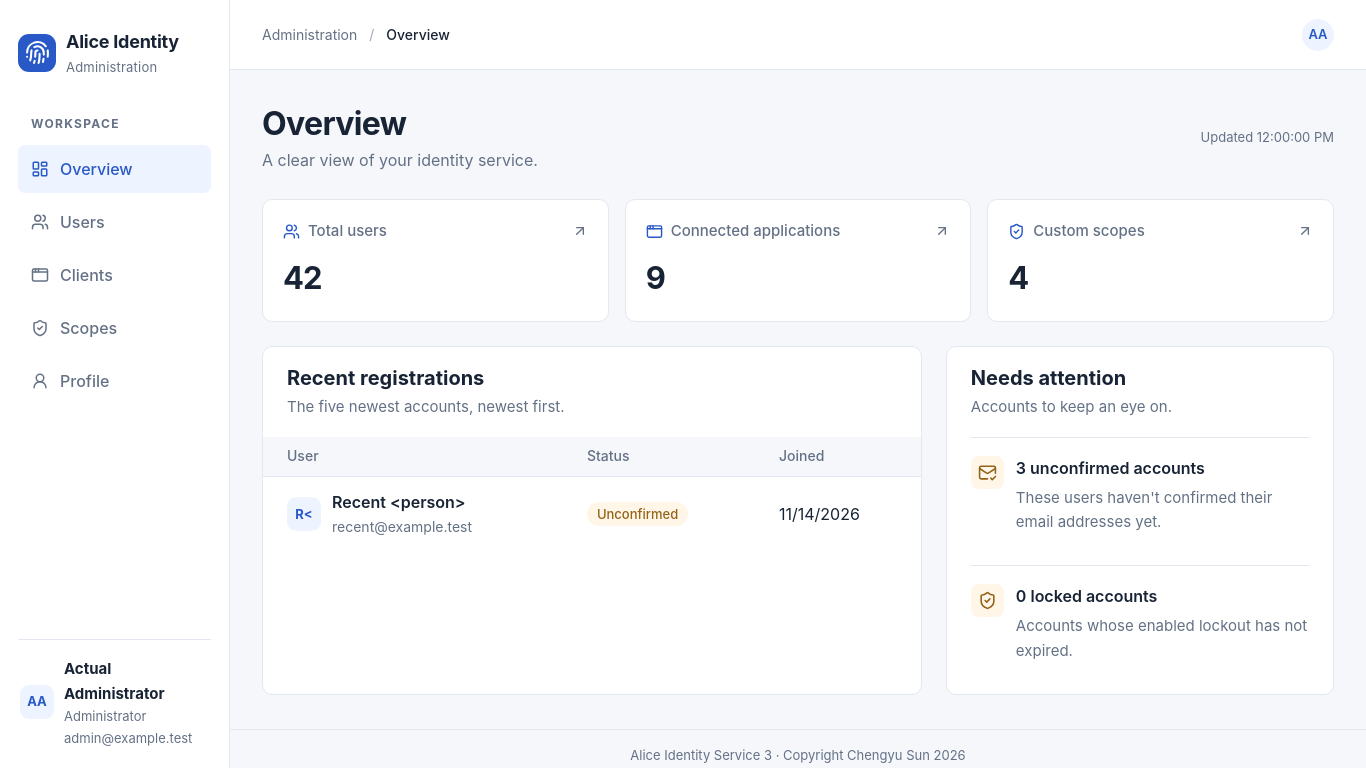
it: live administration › finishes signing out if the avatar menu is closed while the token is loading
The width and height of the screenshot is (1366, 768).
Step 1. Click the button with aria-label "User menu for Actual Administrator" → (1318, 34), box [1302,18,1334,50]
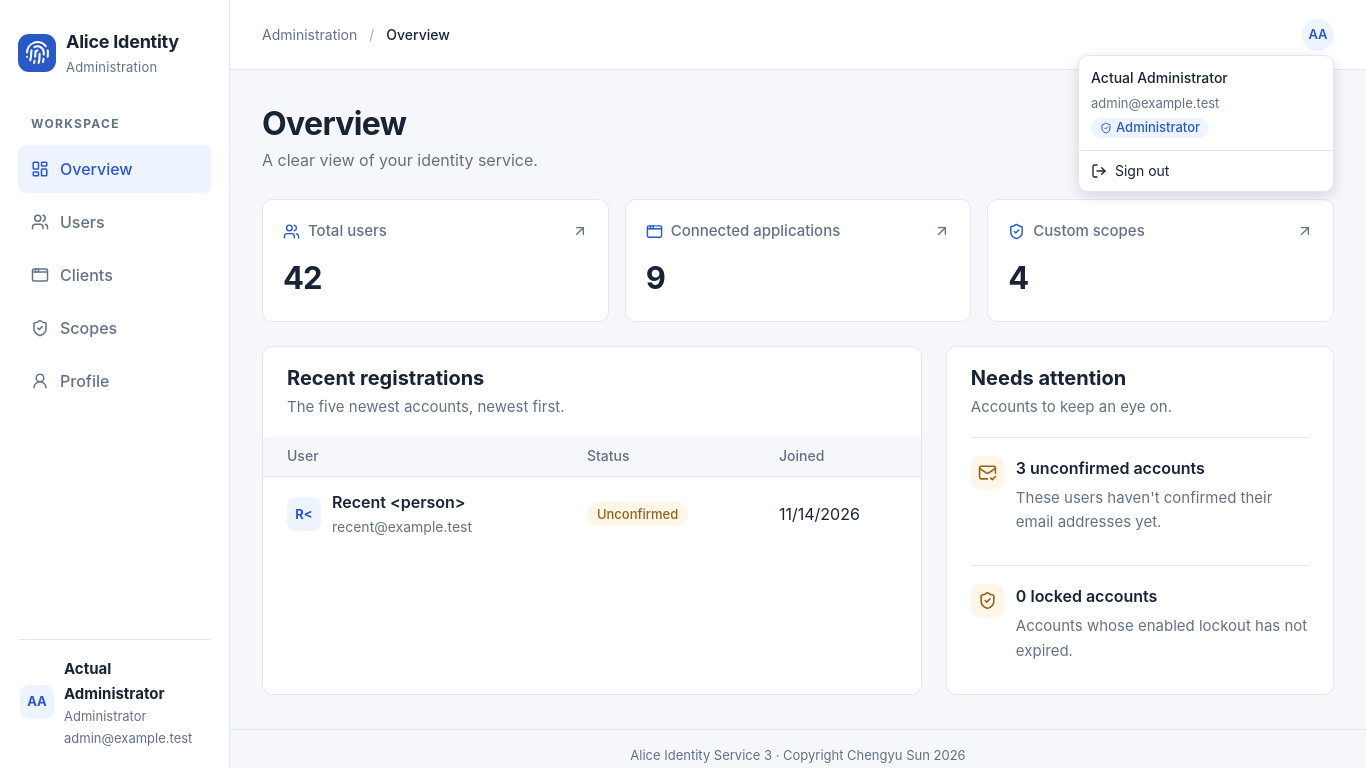
Step 2. Click the menu item "Sign out" → (1130, 170), box [1091,162,1169,179]
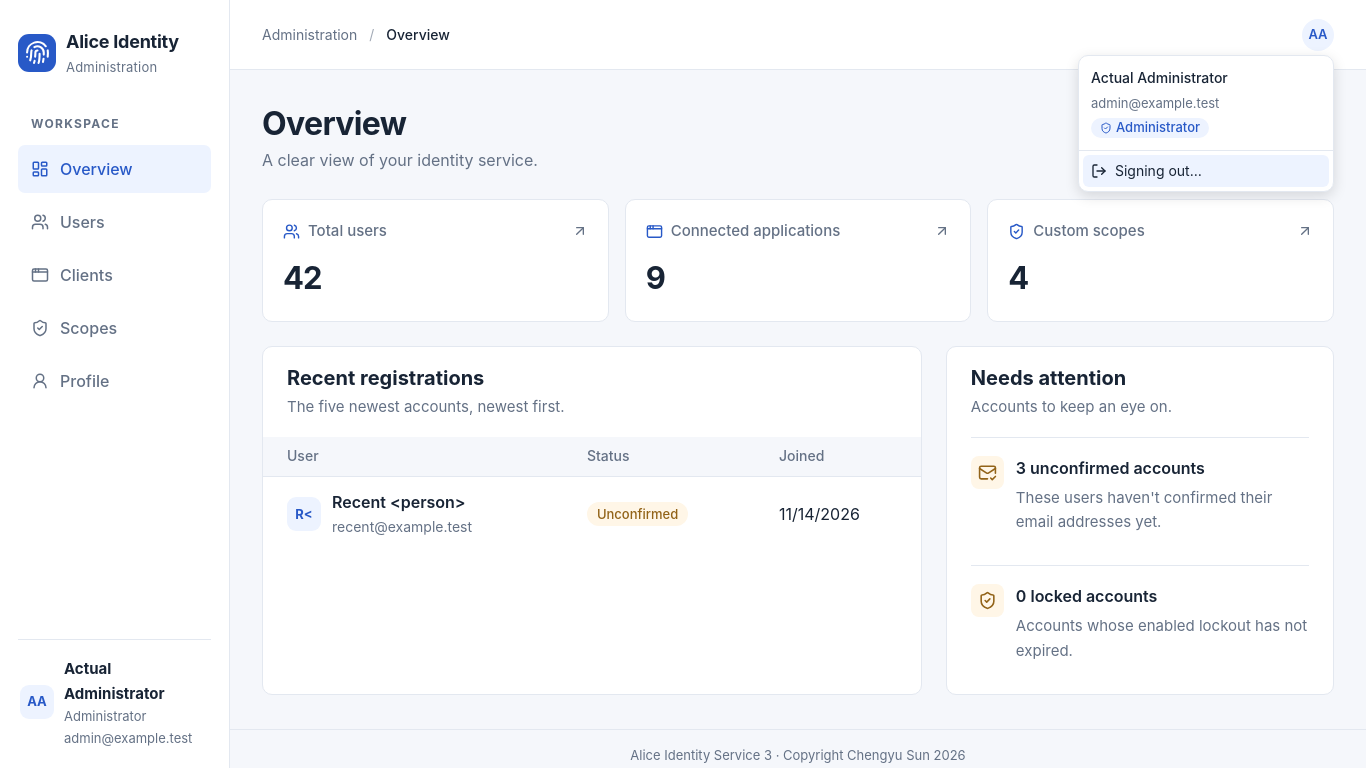
Step 3. Press Escape
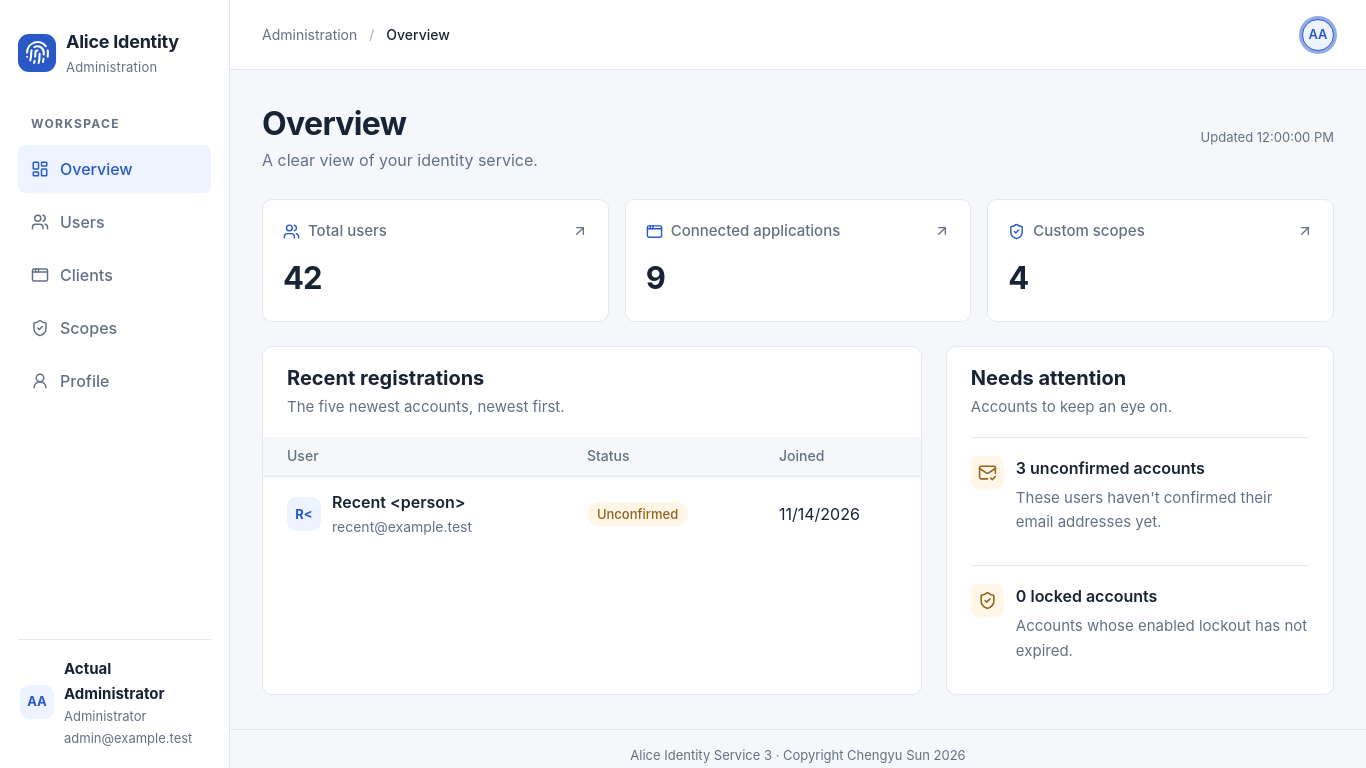
Expected: the menu "User menu" is gone
